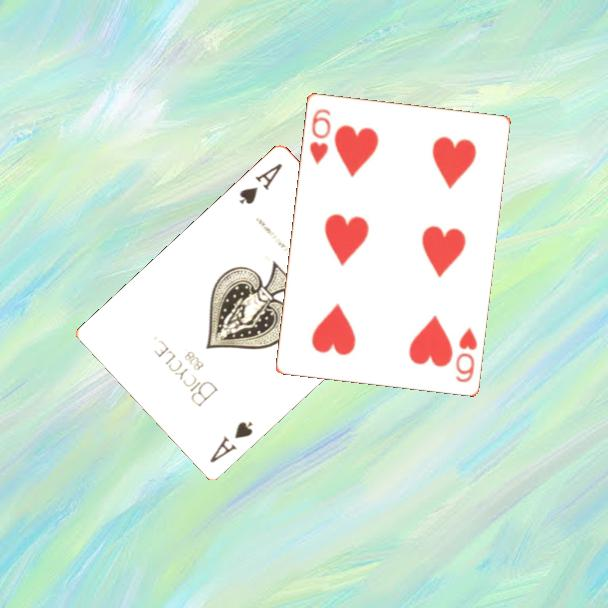h06: (306, 105, 334, 167), (452, 323, 480, 385)
s01: (206, 418, 256, 466), (235, 160, 285, 208)
